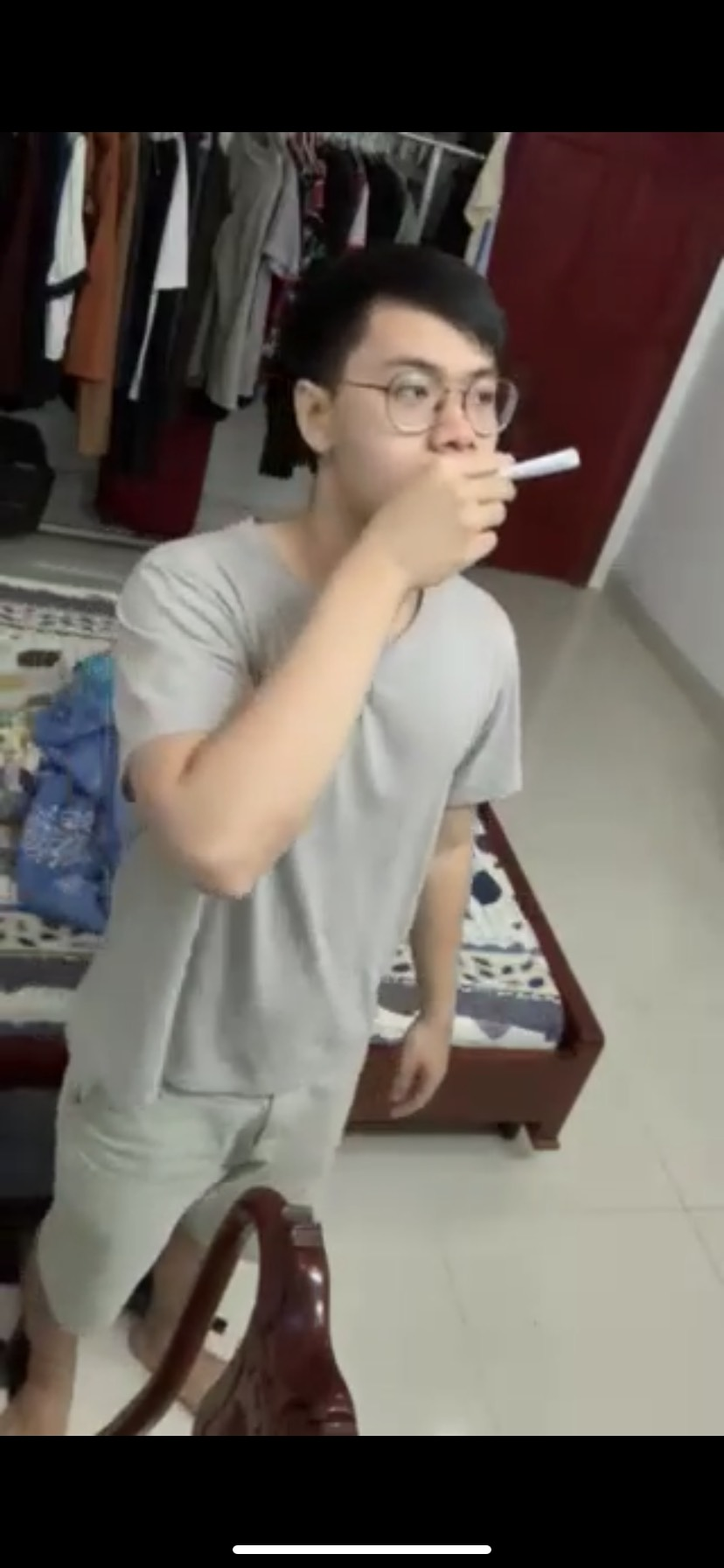cigarette: (505, 441, 586, 492)
person: (85, 227, 590, 1320)
